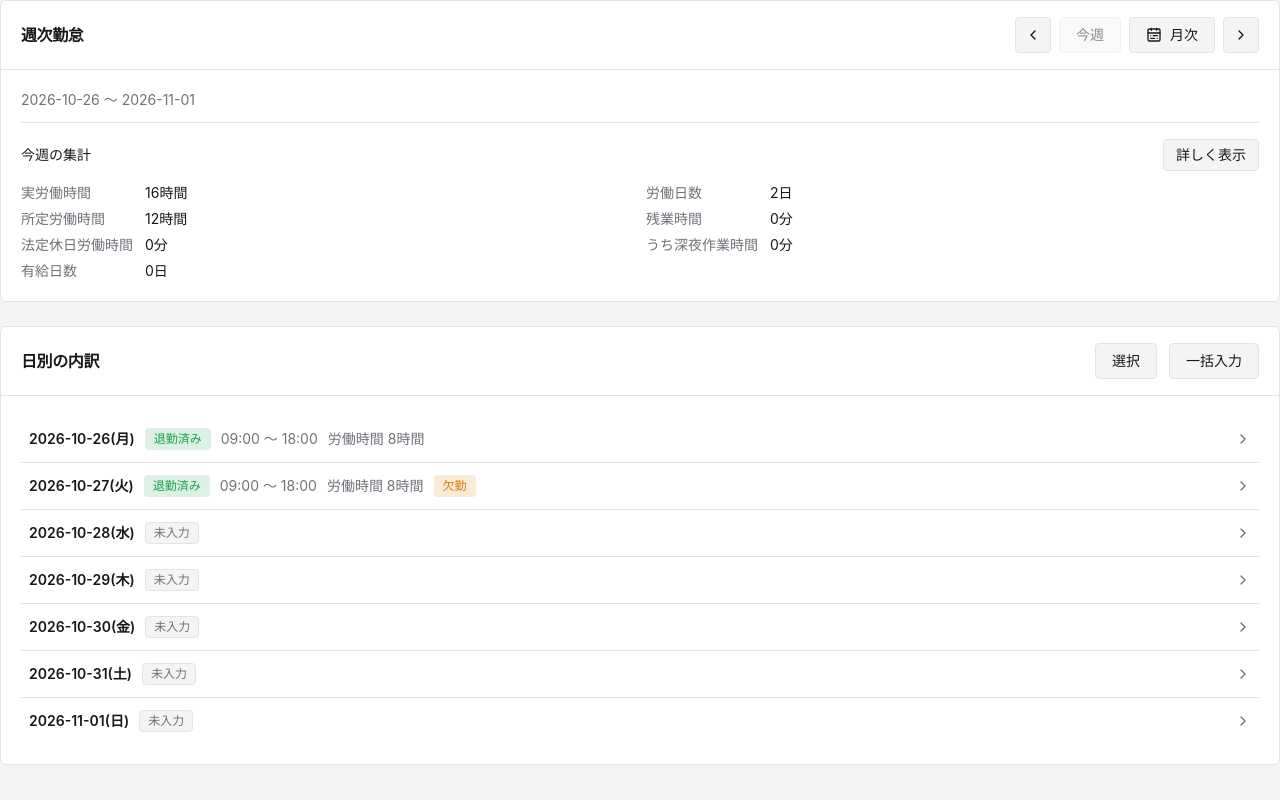
WeekAttendancePage › shows the summed weekly calculation in the common summary layout
Expected: the heading "今週の集計" is shown, [21,145,91,165]
Click the button "詳しく表示": click(1211, 155) [1163,139,1259,171]
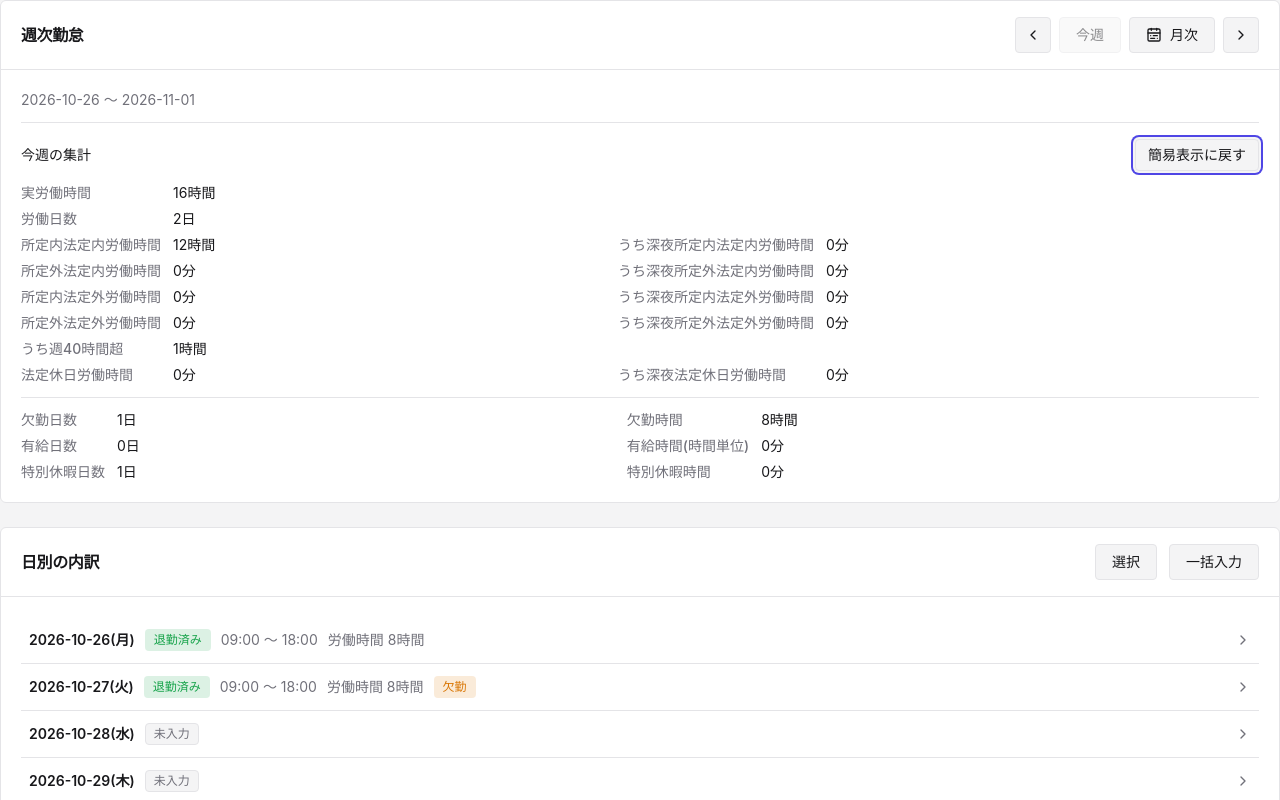
Result: the text "12時間" is shown at [173,236,215,253]
Result: the element showing "1時間" is shown at [173,340,207,357]
Result: the 2nd text "1日" is shown at [117,463,137,480]
